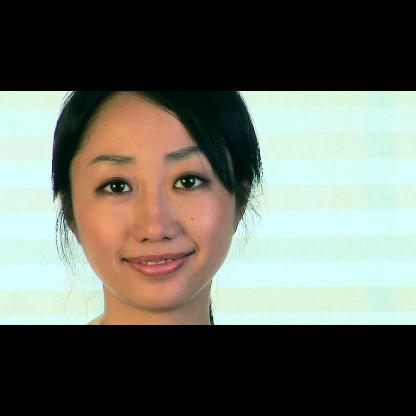Female: (61, 92, 246, 310)
